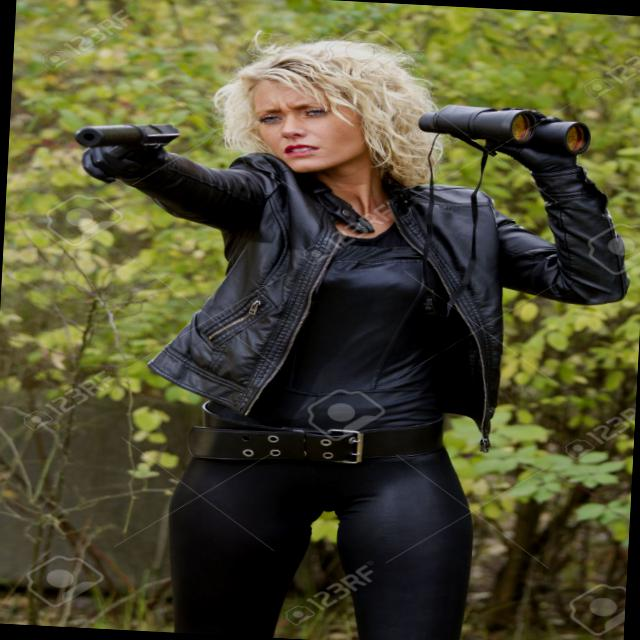handgun: (74, 120, 180, 170)
